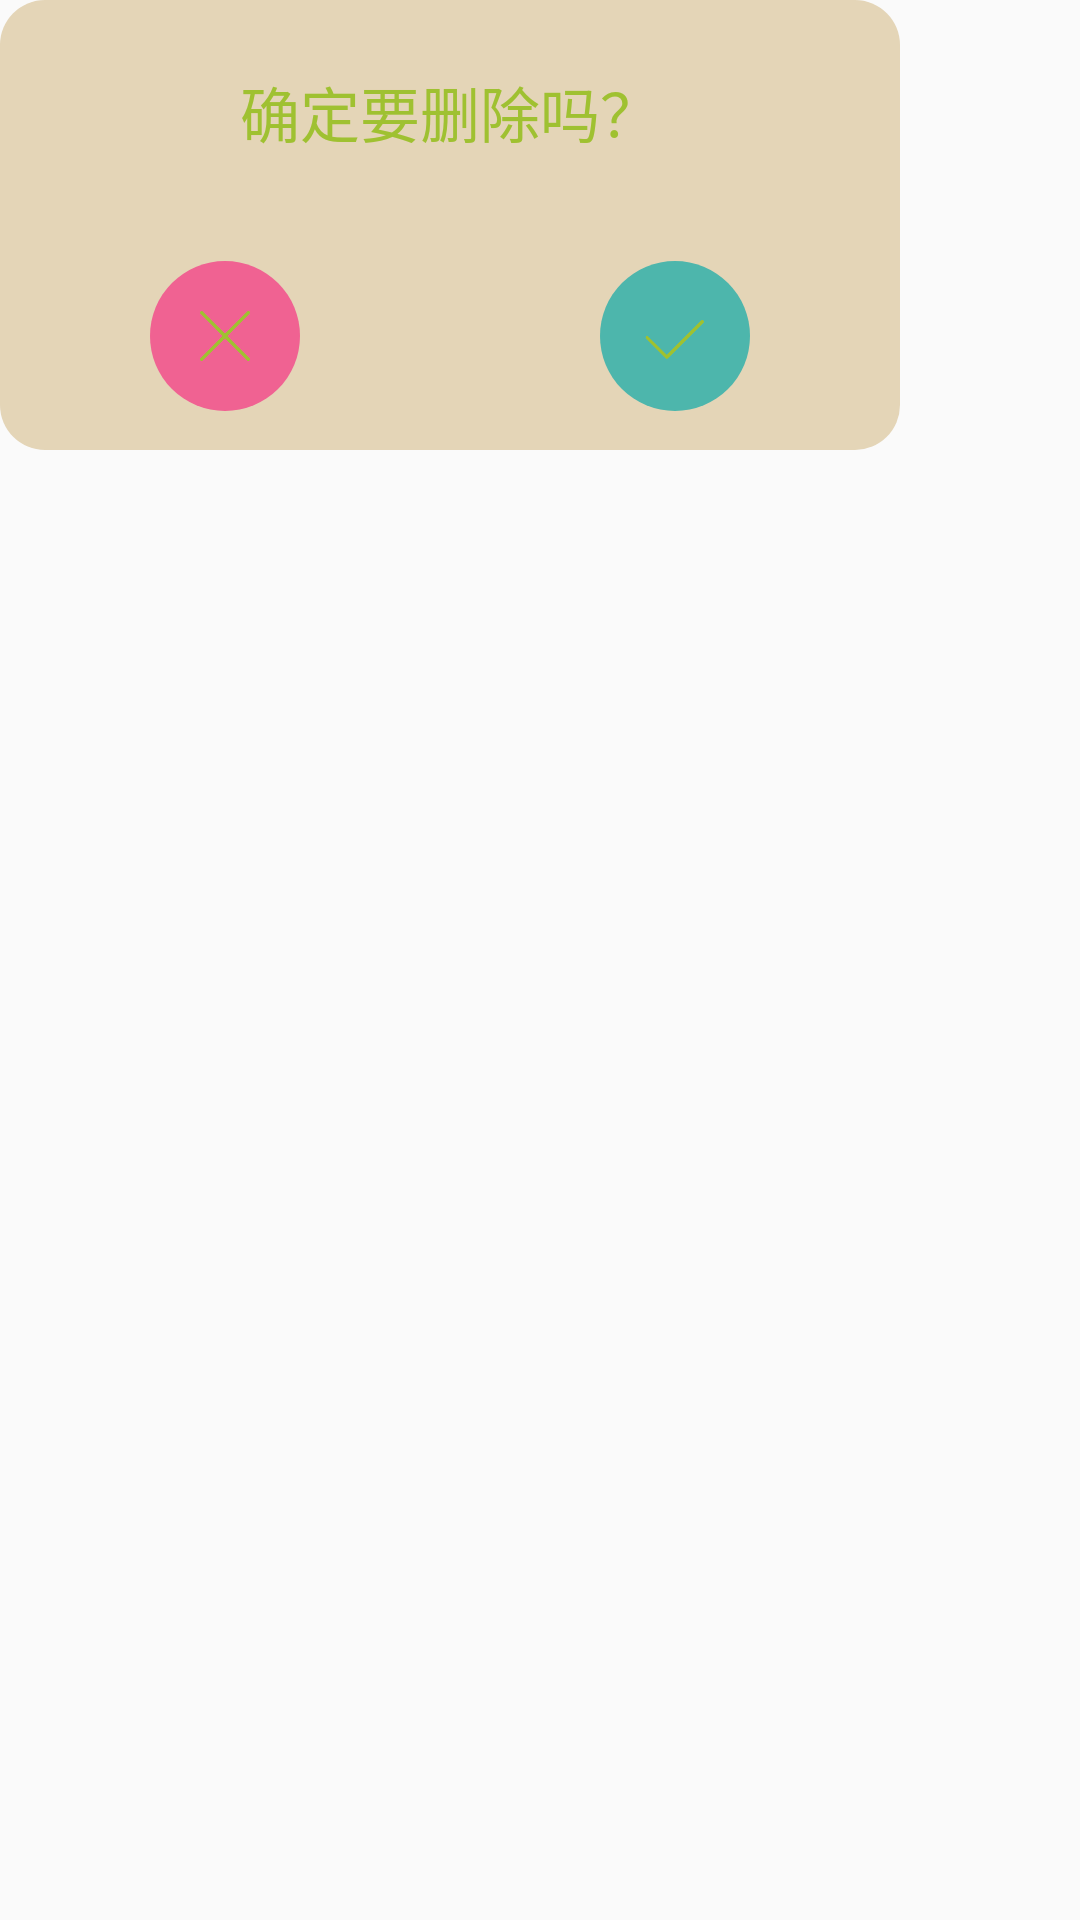

Where to tap for icons on this 1080px×1920px app screen, as (x,y):
cancel: (225,336)
submit: (675,336)
